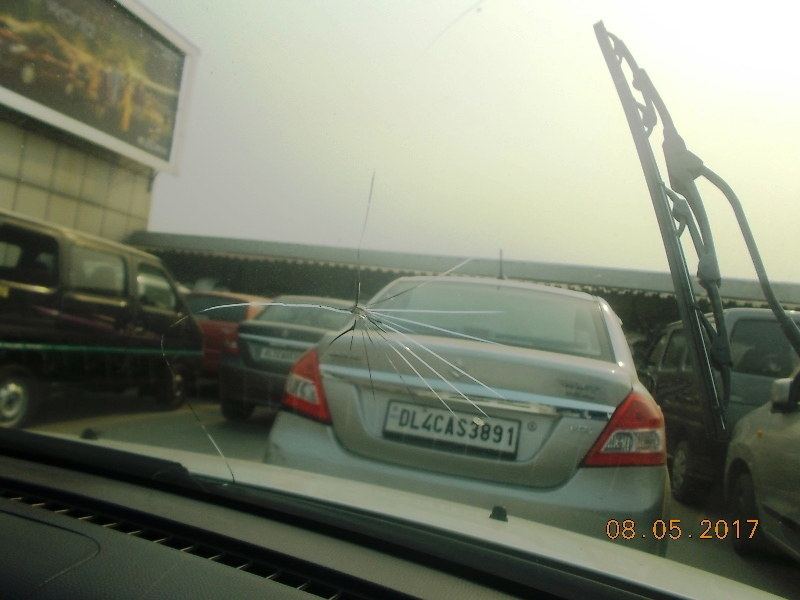Shatter: (324, 272, 477, 401)
